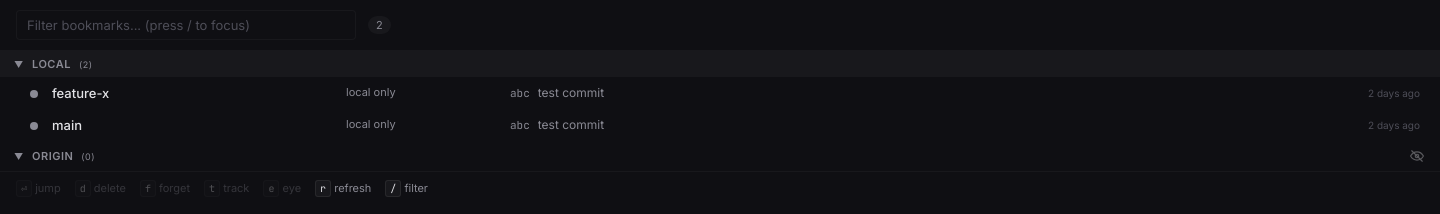
Test: BookmarksPanel — filter › / focuses input; fuzzy filter narrows rows; index resets
Press / in the list with class "bp-list", box [0, 51, 1439, 171]
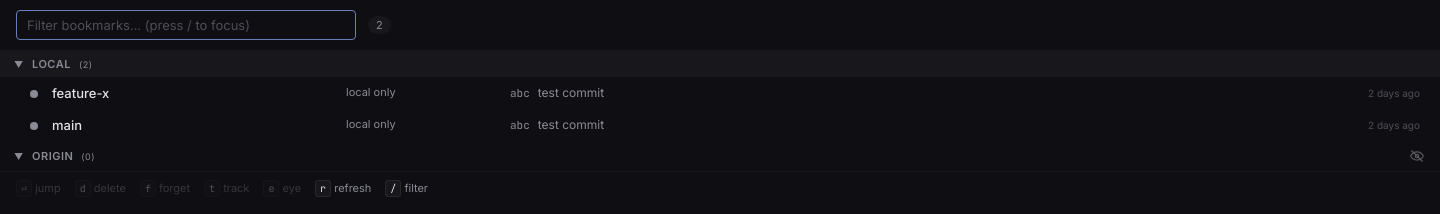
Type "ftx" into the field with class "bp-filter".
click(186, 25); type("ftx")  # box [16, 10, 356, 40]
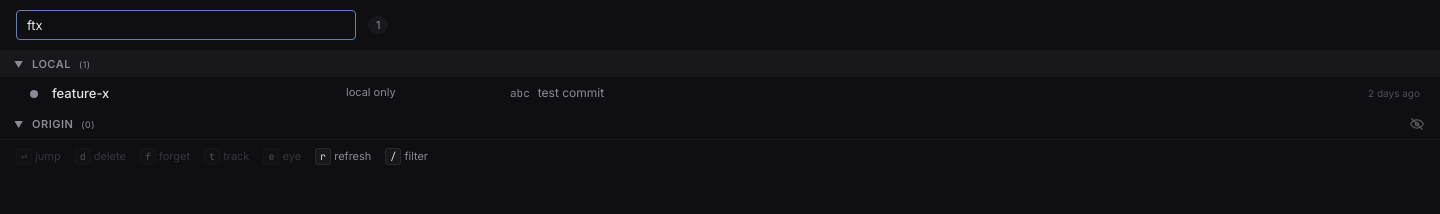
Expected: the number of options with class "bp-row" is 1, [30, 85, 1420, 101]
